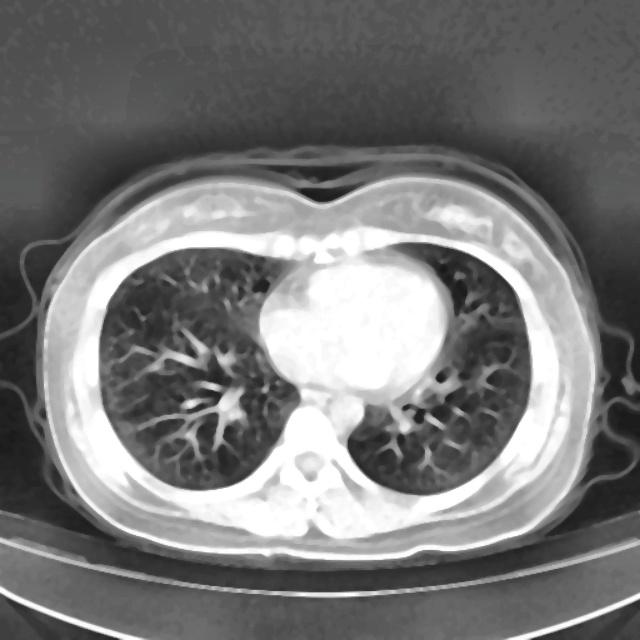covid: (13, 144, 622, 570)
